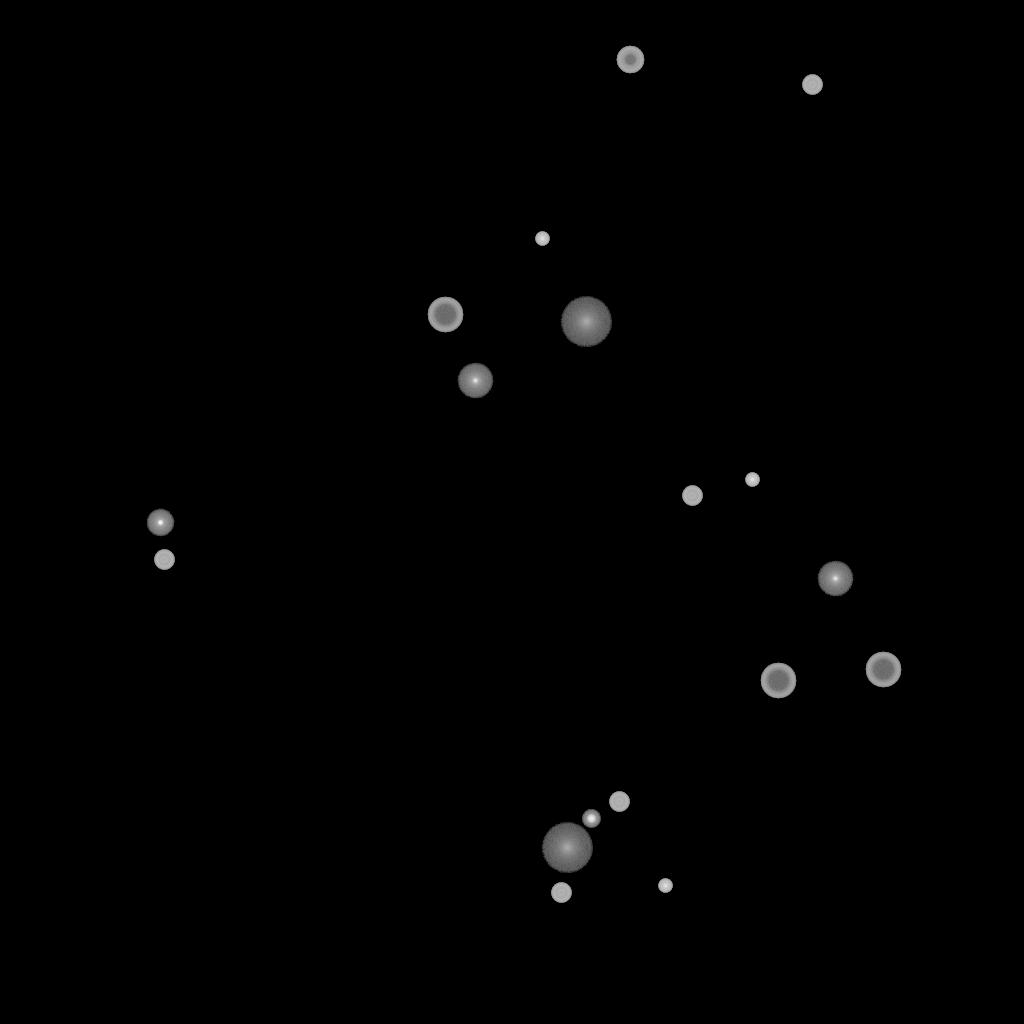depth:-10: (146, 509, 174, 537)
depth:-20: (582, 810, 600, 828)
depth:-30: (745, 473, 759, 487), (535, 232, 549, 246), (658, 879, 672, 893)
depth:-40: (802, 75, 822, 95), (682, 486, 702, 506), (551, 883, 571, 903), (154, 550, 174, 570), (609, 792, 629, 812)
depth:-50: (616, 46, 644, 74)
depth:-60: (427, 297, 463, 333), (865, 652, 901, 688), (760, 663, 796, 699)
depth:0: (817, 561, 853, 597), (457, 363, 493, 399)
depth:20: (541, 823, 593, 873), (560, 297, 612, 347)
